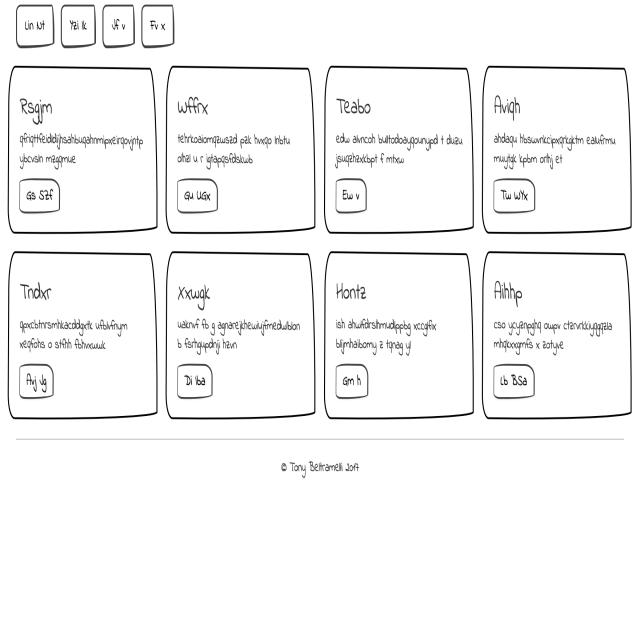Button: (15, 172, 66, 220), (171, 358, 218, 406), (16, 356, 58, 407), (173, 172, 220, 217), (490, 176, 538, 216), (492, 362, 538, 402), (334, 360, 373, 405), (330, 178, 369, 215)
Card: (0, 58, 160, 249), (323, 57, 479, 245), (164, 61, 322, 246), (480, 57, 632, 241), (162, 249, 317, 428), (4, 248, 159, 427), (480, 248, 638, 422), (322, 246, 476, 424)
Footer: (0, 429, 640, 640)
Heading 6: (488, 267, 535, 311), (13, 82, 60, 123), (172, 270, 214, 311), (333, 272, 372, 312), (15, 271, 59, 306), (332, 87, 373, 119), (172, 87, 215, 117), (488, 91, 525, 122)
Navigation Bar: (11, 0, 179, 56)
Paragraph: (330, 128, 466, 170), (14, 130, 152, 171), (491, 130, 617, 174), (492, 314, 616, 358), (172, 315, 304, 355), (334, 314, 448, 356), (15, 314, 131, 353)
